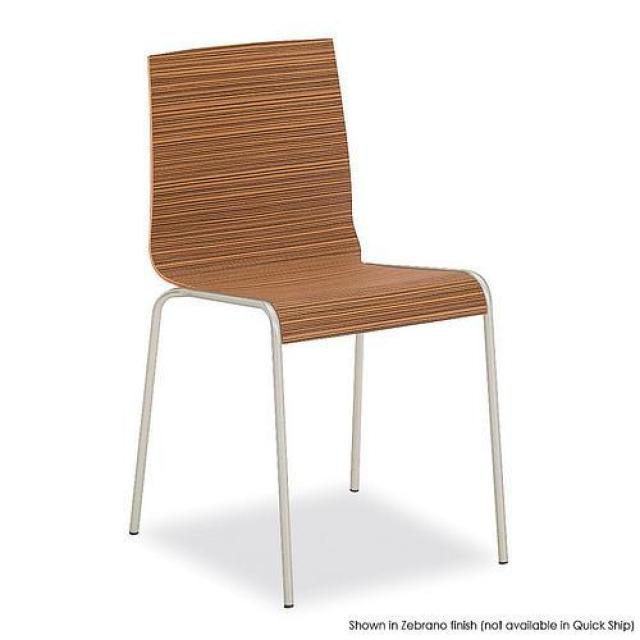chair: (127, 38, 508, 611)
